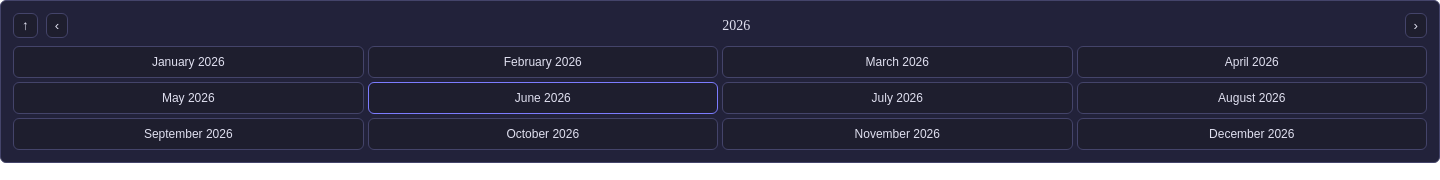
Scenario: ScopePicker — navigation › ascends from month to season
Click the button named "up" at (25, 26), box [13, 13, 38, 38]
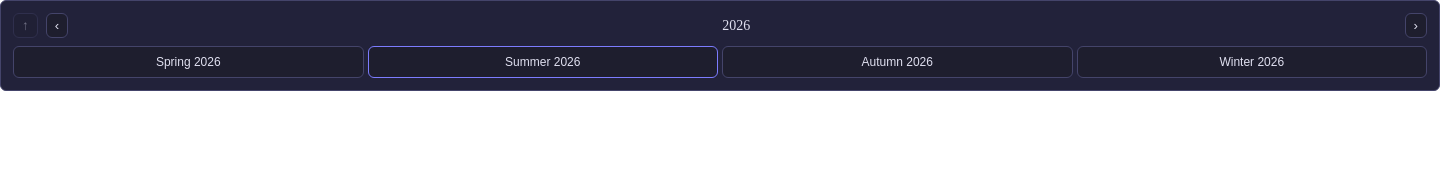
Expected: the button "Summer 2026" is shown, [368, 46, 718, 78]
